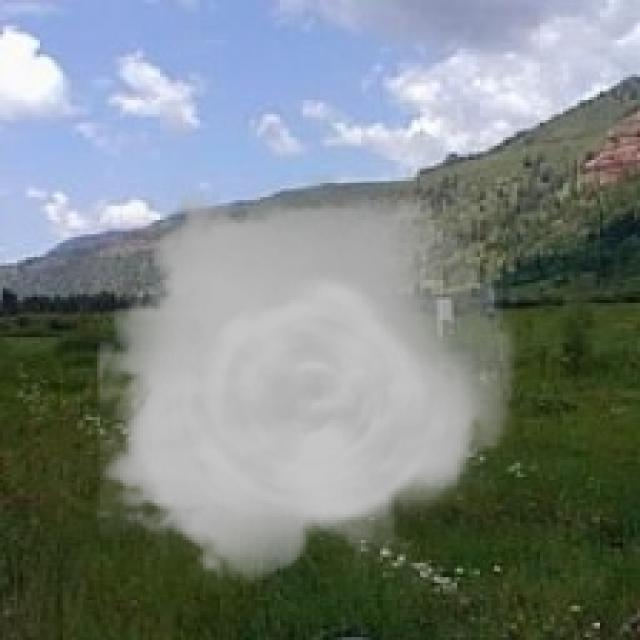smoke: (97, 175, 517, 594)
